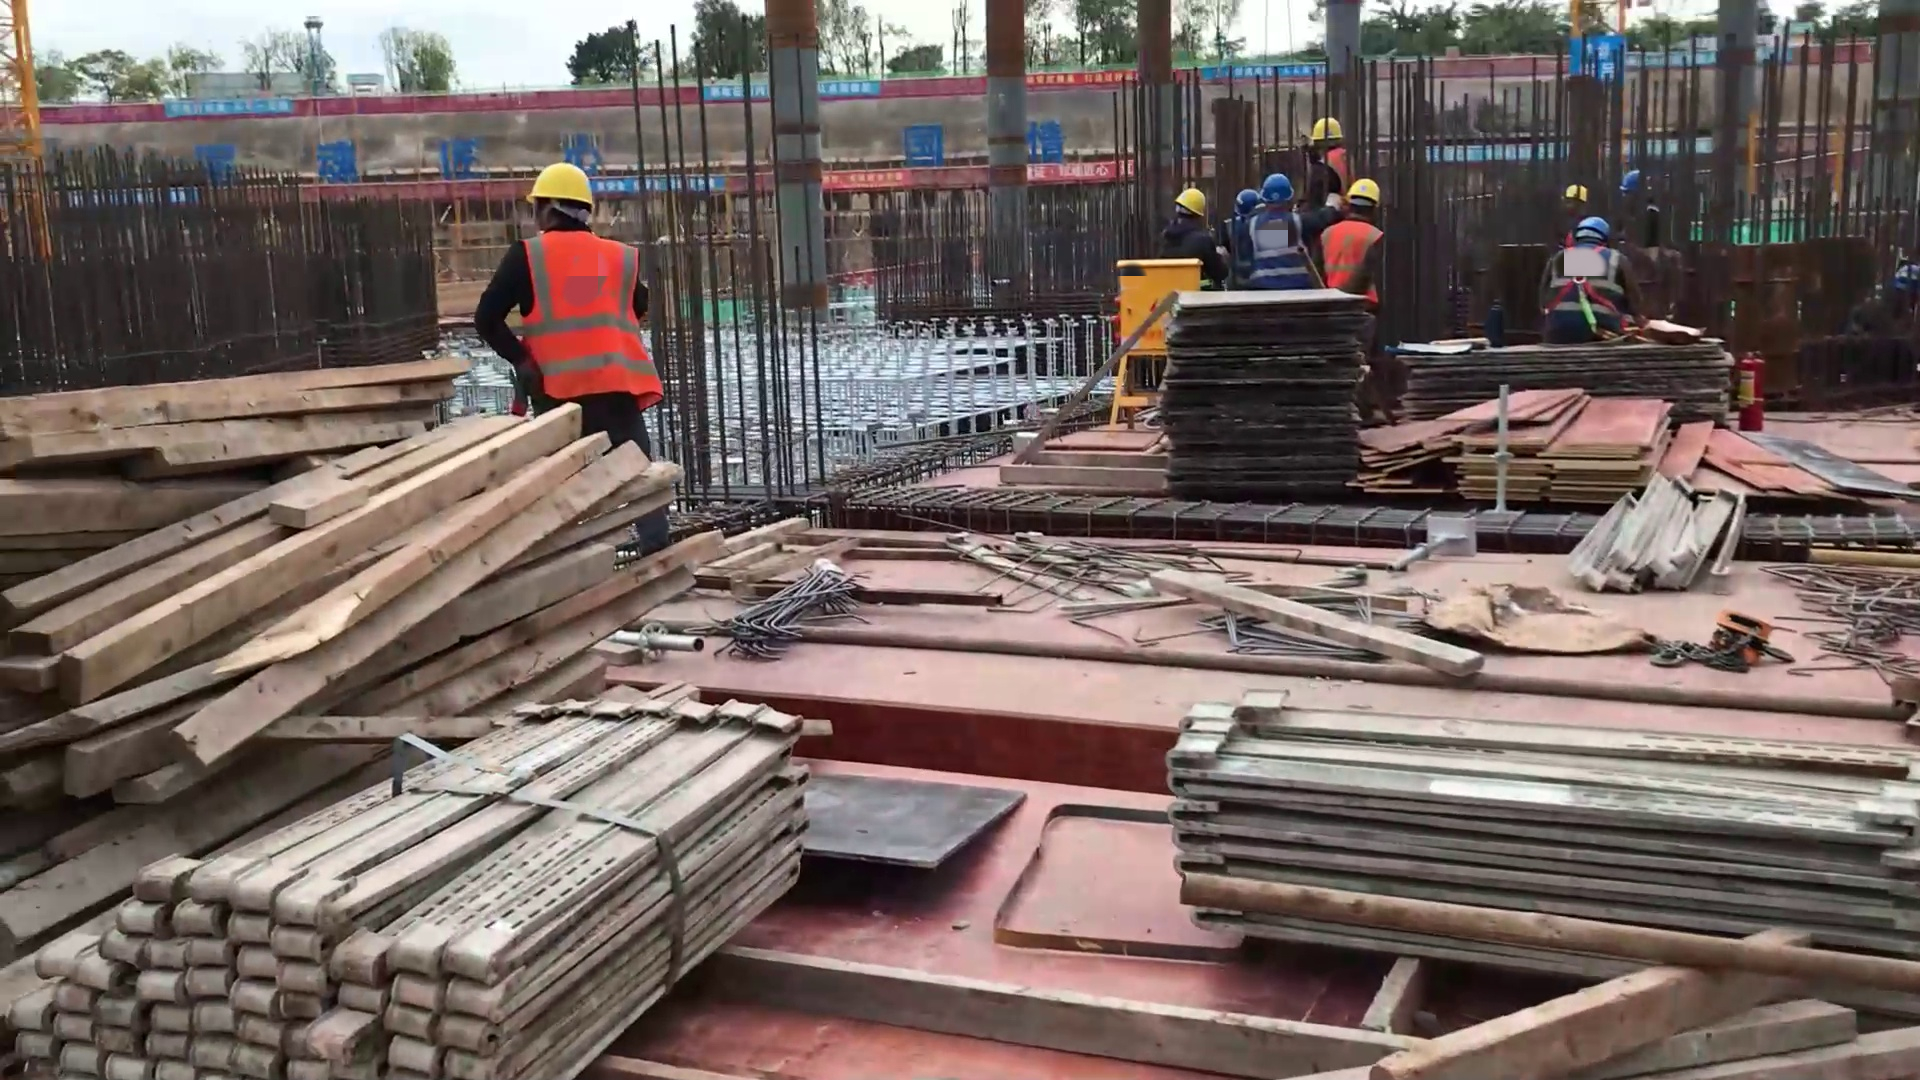helmet: (524, 152, 599, 217), (1628, 172, 1664, 211), (1579, 219, 1618, 246), (1169, 187, 1211, 212), (1314, 119, 1348, 146), (1888, 256, 1920, 279), (1259, 171, 1288, 197), (1358, 174, 1383, 201), (1568, 181, 1593, 206), (1231, 186, 1256, 209)
person: (489, 159, 658, 541), (1552, 218, 1634, 342), (1253, 174, 1316, 299), (1327, 179, 1384, 312), (1165, 183, 1222, 290), (1614, 168, 1662, 258), (1307, 118, 1357, 199), (1856, 257, 1920, 320), (1228, 190, 1253, 281), (1554, 173, 1587, 237)
vest: (519, 229, 654, 401), (1561, 259, 1636, 328), (1344, 208, 1389, 298), (1264, 211, 1312, 295), (1166, 215, 1213, 271), (1225, 213, 1266, 278), (1628, 208, 1681, 254), (1318, 142, 1355, 193), (1872, 285, 1915, 314), (1555, 218, 1575, 242)
